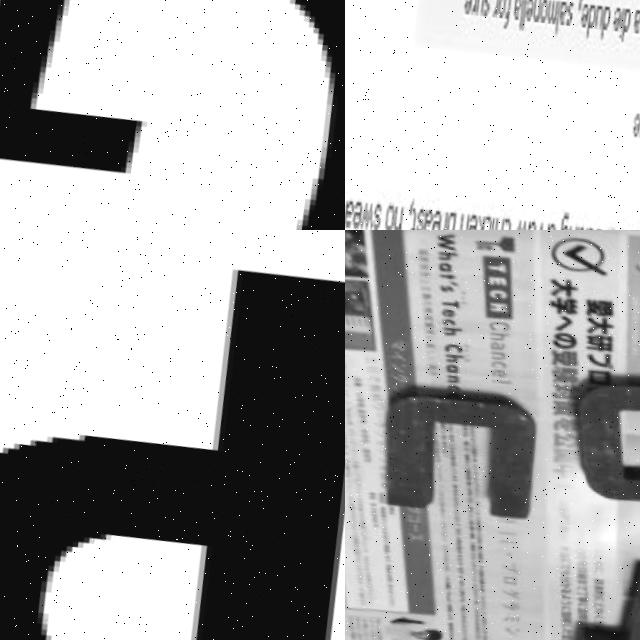A: (413, 205, 430, 230), (626, 10, 639, 37), (553, 1, 566, 28), (506, 0, 519, 24), (345, 195, 351, 229), (517, 218, 532, 230), (535, 222, 551, 230)
B: (437, 210, 452, 230)
C: (494, 217, 508, 230), (474, 218, 487, 230)
D: (614, 10, 630, 49), (595, 8, 610, 46), (579, 5, 594, 43)
E: (574, 2, 588, 33), (345, 200, 359, 230), (624, 114, 639, 141), (607, 9, 619, 34), (519, 0, 530, 26), (423, 210, 437, 230), (459, 213, 473, 230), (457, 0, 470, 15)
F: (498, 0, 509, 31)
G: (0, 0, 345, 230), (550, 214, 566, 230)
H: (483, 218, 499, 230)
I: (613, 10, 621, 44), (481, 216, 490, 230), (637, 114, 640, 152)
K: (631, 116, 640, 152), (465, 215, 480, 230)
L: (549, 2, 558, 40), (515, 0, 524, 35), (513, 0, 522, 35)
M: (541, 0, 554, 27)
N: (385, 205, 399, 230), (526, 0, 539, 25), (451, 212, 465, 230), (634, 11, 640, 38)
O: (554, 369, 640, 519), (375, 203, 391, 230), (533, 0, 546, 26), (491, 0, 504, 21)
P: (0, 268, 345, 640)
R: (431, 211, 445, 230), (486, 0, 497, 20), (464, 0, 475, 15), (525, 223, 539, 230)
S: (364, 201, 378, 230), (406, 204, 421, 230), (560, 2, 573, 29), (476, 0, 488, 21)
T: (573, 563, 640, 640), (401, 207, 413, 230)
U: (371, 382, 535, 527), (589, 7, 602, 35), (470, 0, 481, 18)
W: (352, 201, 370, 230), (504, 218, 524, 230)
